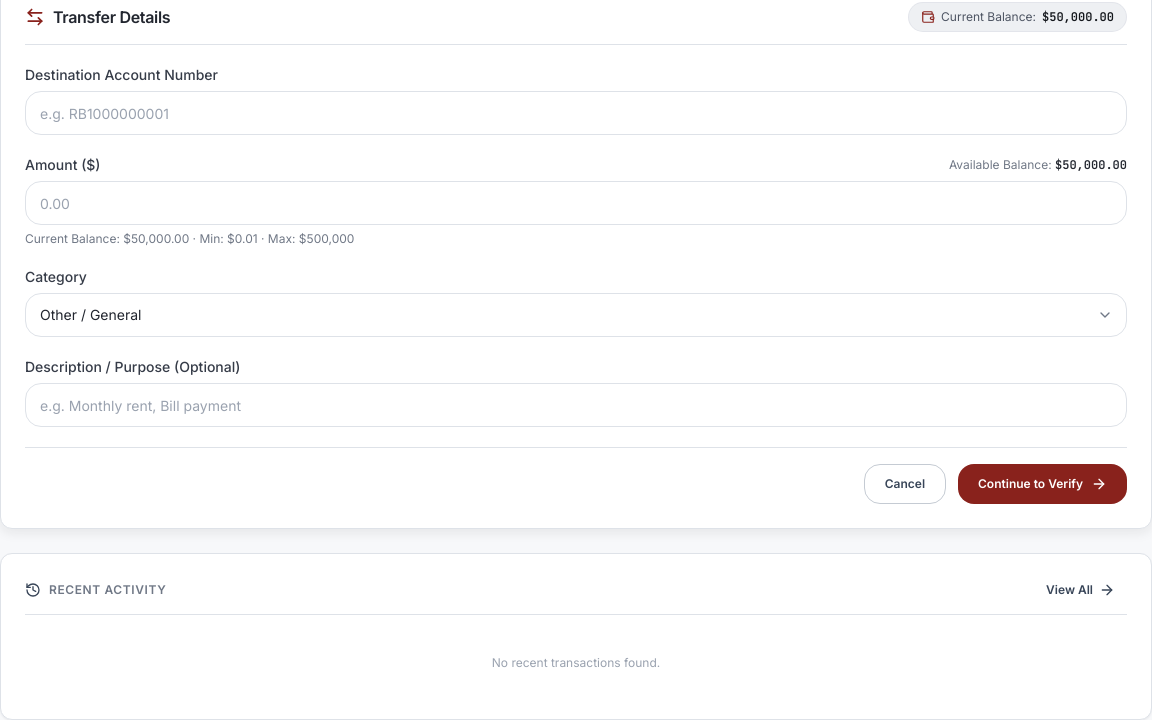
it: TransactionForm › validates required destination account and amount limits
The image size is (1152, 720).
(page scrolled)
Click the button "Continue to Verify". click: (1042, 484)
box: top-left (958, 464), bottom-right (1127, 504)
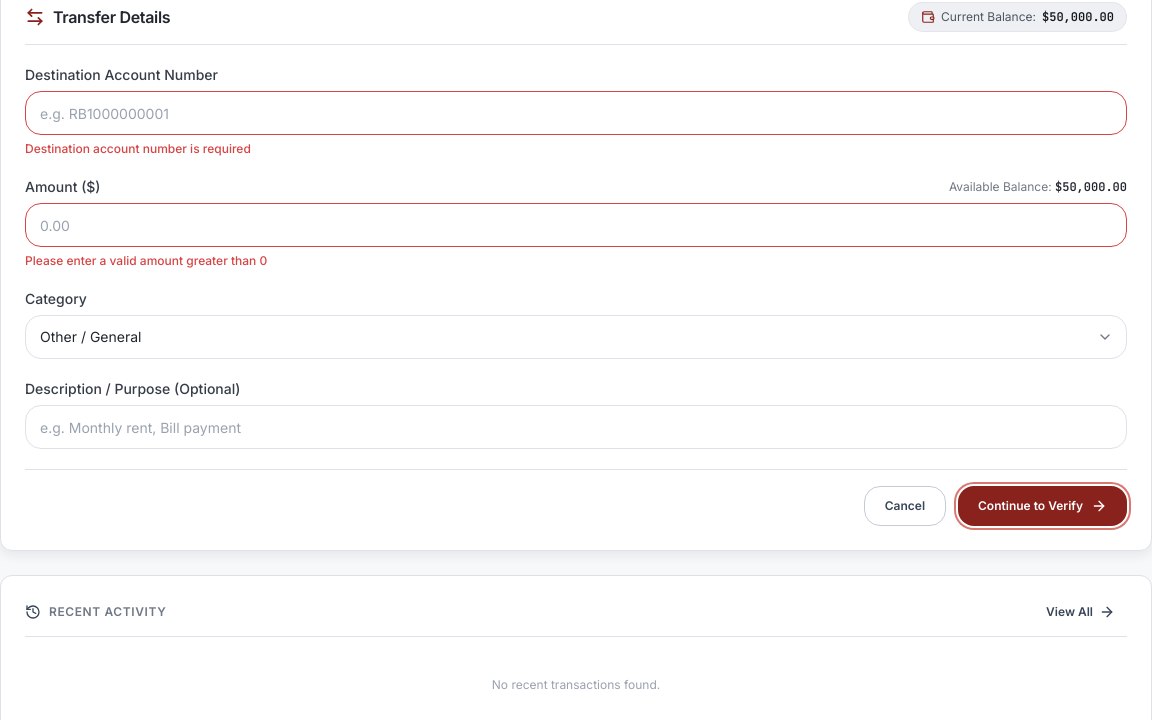
expect the text "Destination account number is required" is shown: met, box top-left (25, 141), bottom-right (251, 156)
expect the text "Please enter a valid amount greater than 0" is shown: met, box top-left (25, 253), bottom-right (267, 268)
